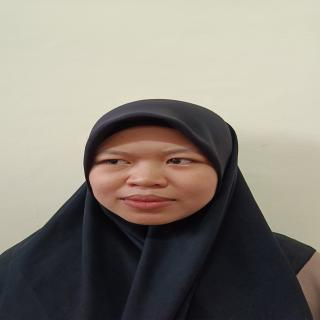Takut: (84, 115, 228, 233)
